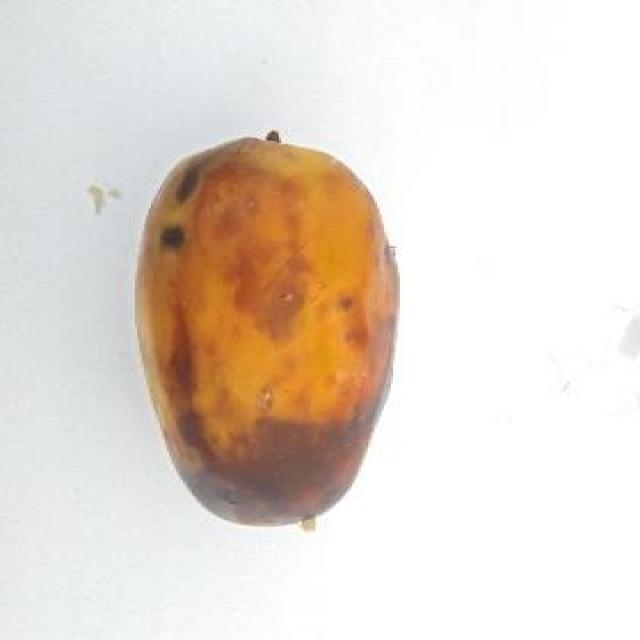Rotten: (127, 133, 404, 528)
